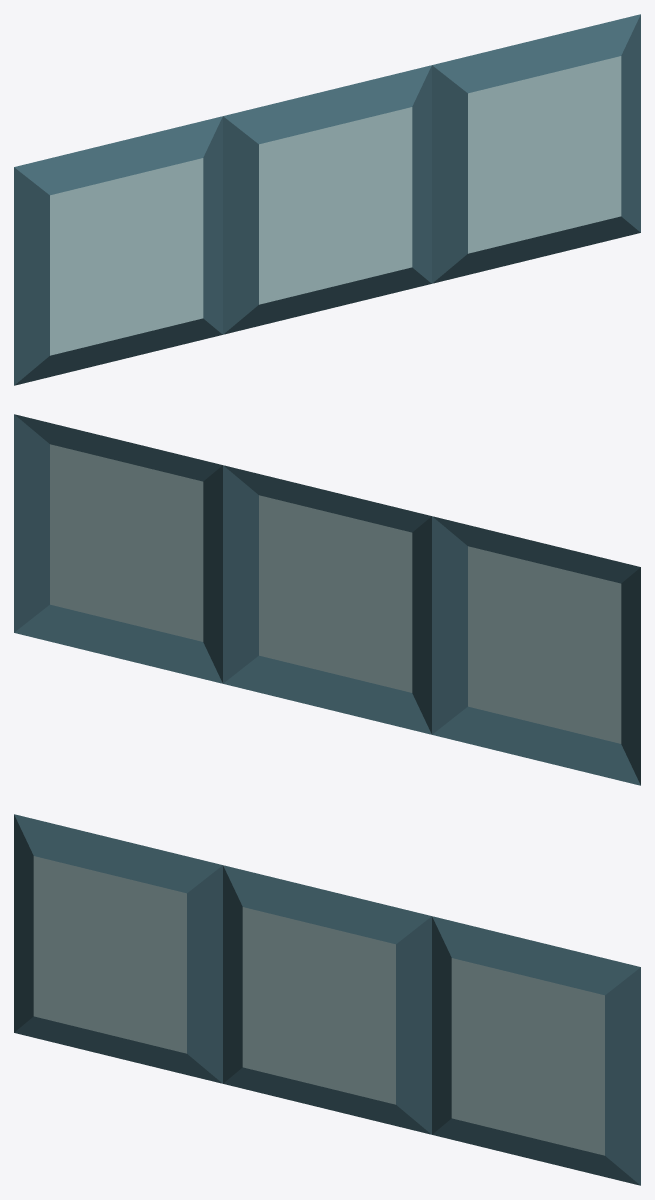
File: raised_grates.obj
The picture shows the model from 3 angles, top to bottom: view 1: azimuth 30°, elevation 25°; view 2: azimuth 150°, elevation 25°; view 3: azimuth 330°, elevation 25°; orthographic projection.
Size of the model in its own units: 2.25 by 0.75 by 0.05.
